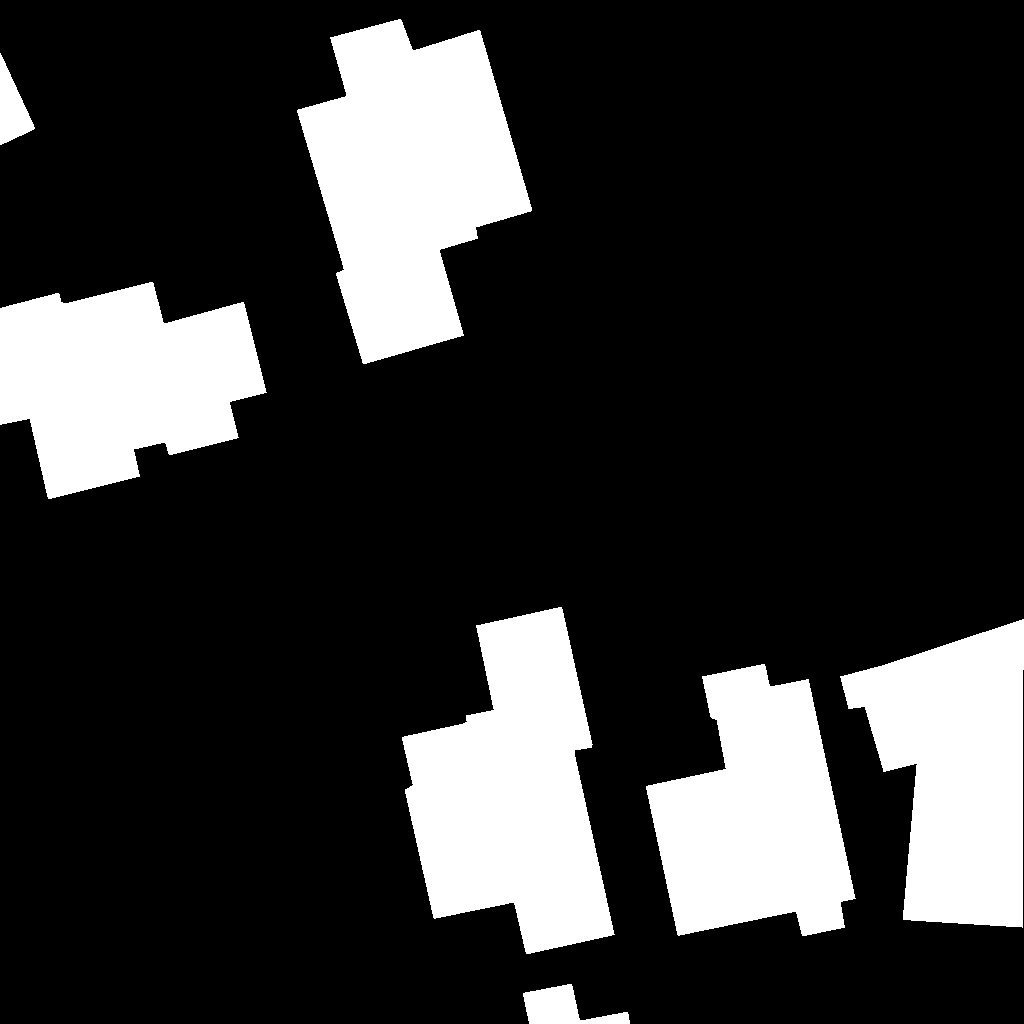building: (297, 19, 533, 365), (402, 607, 615, 955), (0, 282, 267, 500), (646, 664, 856, 937), (840, 619, 1024, 928), (523, 984, 631, 1024), (0, 52, 36, 146)
